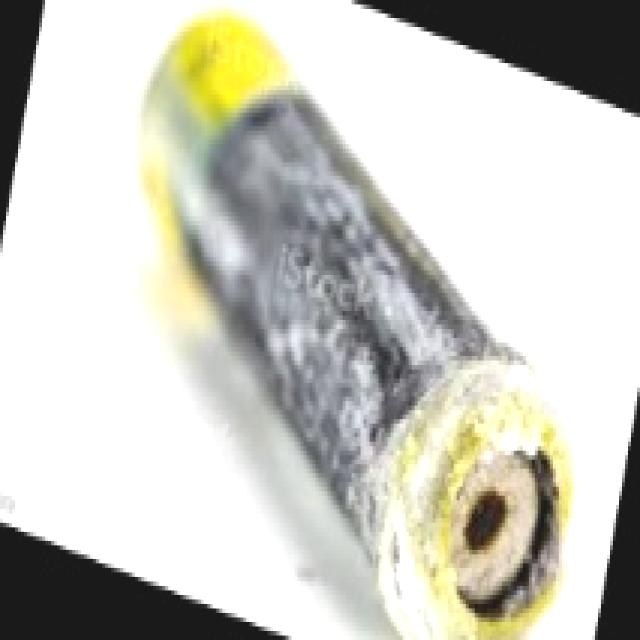elektronik: (29, 2, 600, 640)
